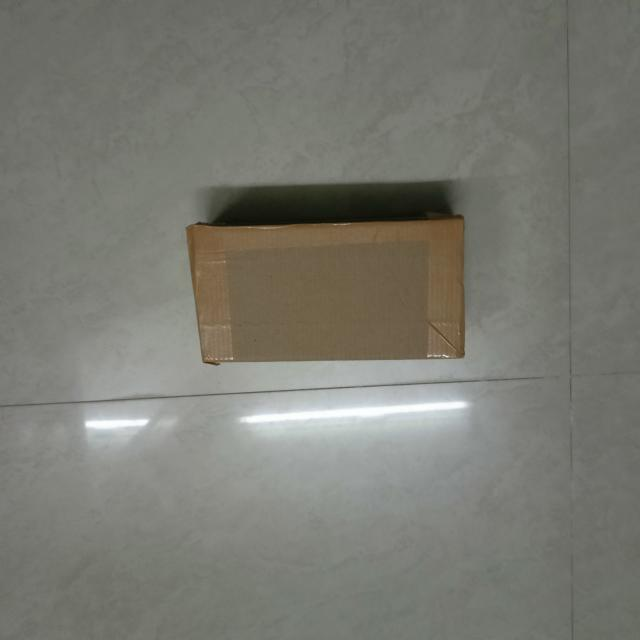box: (188, 222, 465, 363)
